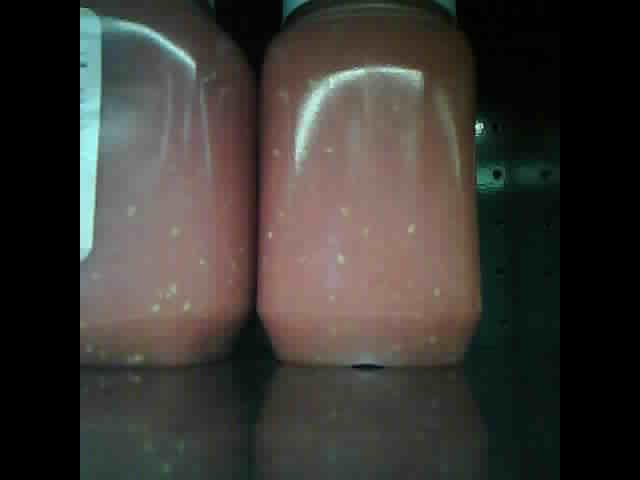tomate: (254, 3, 480, 366), (84, 3, 255, 369)
